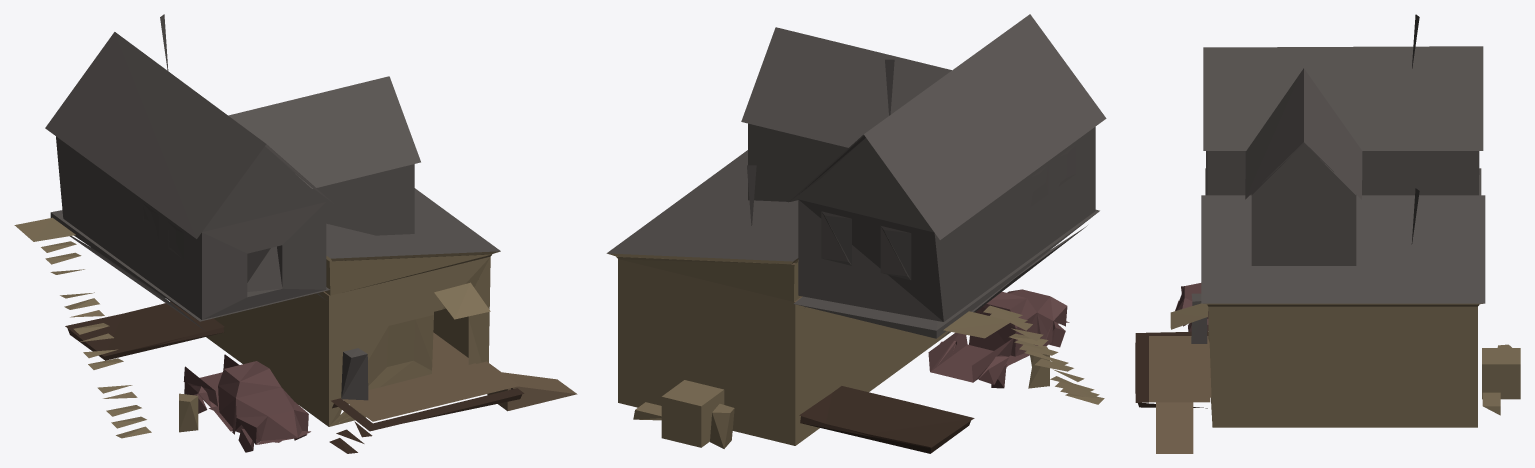
File: barn.access-v1.lod2.glb
The picture shows the model from 3 angles, left to right: view 1: azimuth 30°, elevation 25°; view 2: azimuth 150°, elevation 25°; view 3: azimuth 270°, elevation 25°; orthographic projection. The views are drawn at different scales.
Parts seen in each view (by area): view 1: polySurface3_barn_0; view 2: polySurface3_barn_0; view 3: polySurface3_barn_0.
Part boxes in pixels (left/top/right/bottom): polySurface3_barn_0: left=14, top=14, right=577, bottom=453; polySurface3_barn_0: left=606, top=14, right=1106, bottom=453; polySurface3_barn_0: left=1135, top=14, right=1520, bottom=453.
Bounding box in the file's own units: 13.5 × 11.19 × 12.4.
